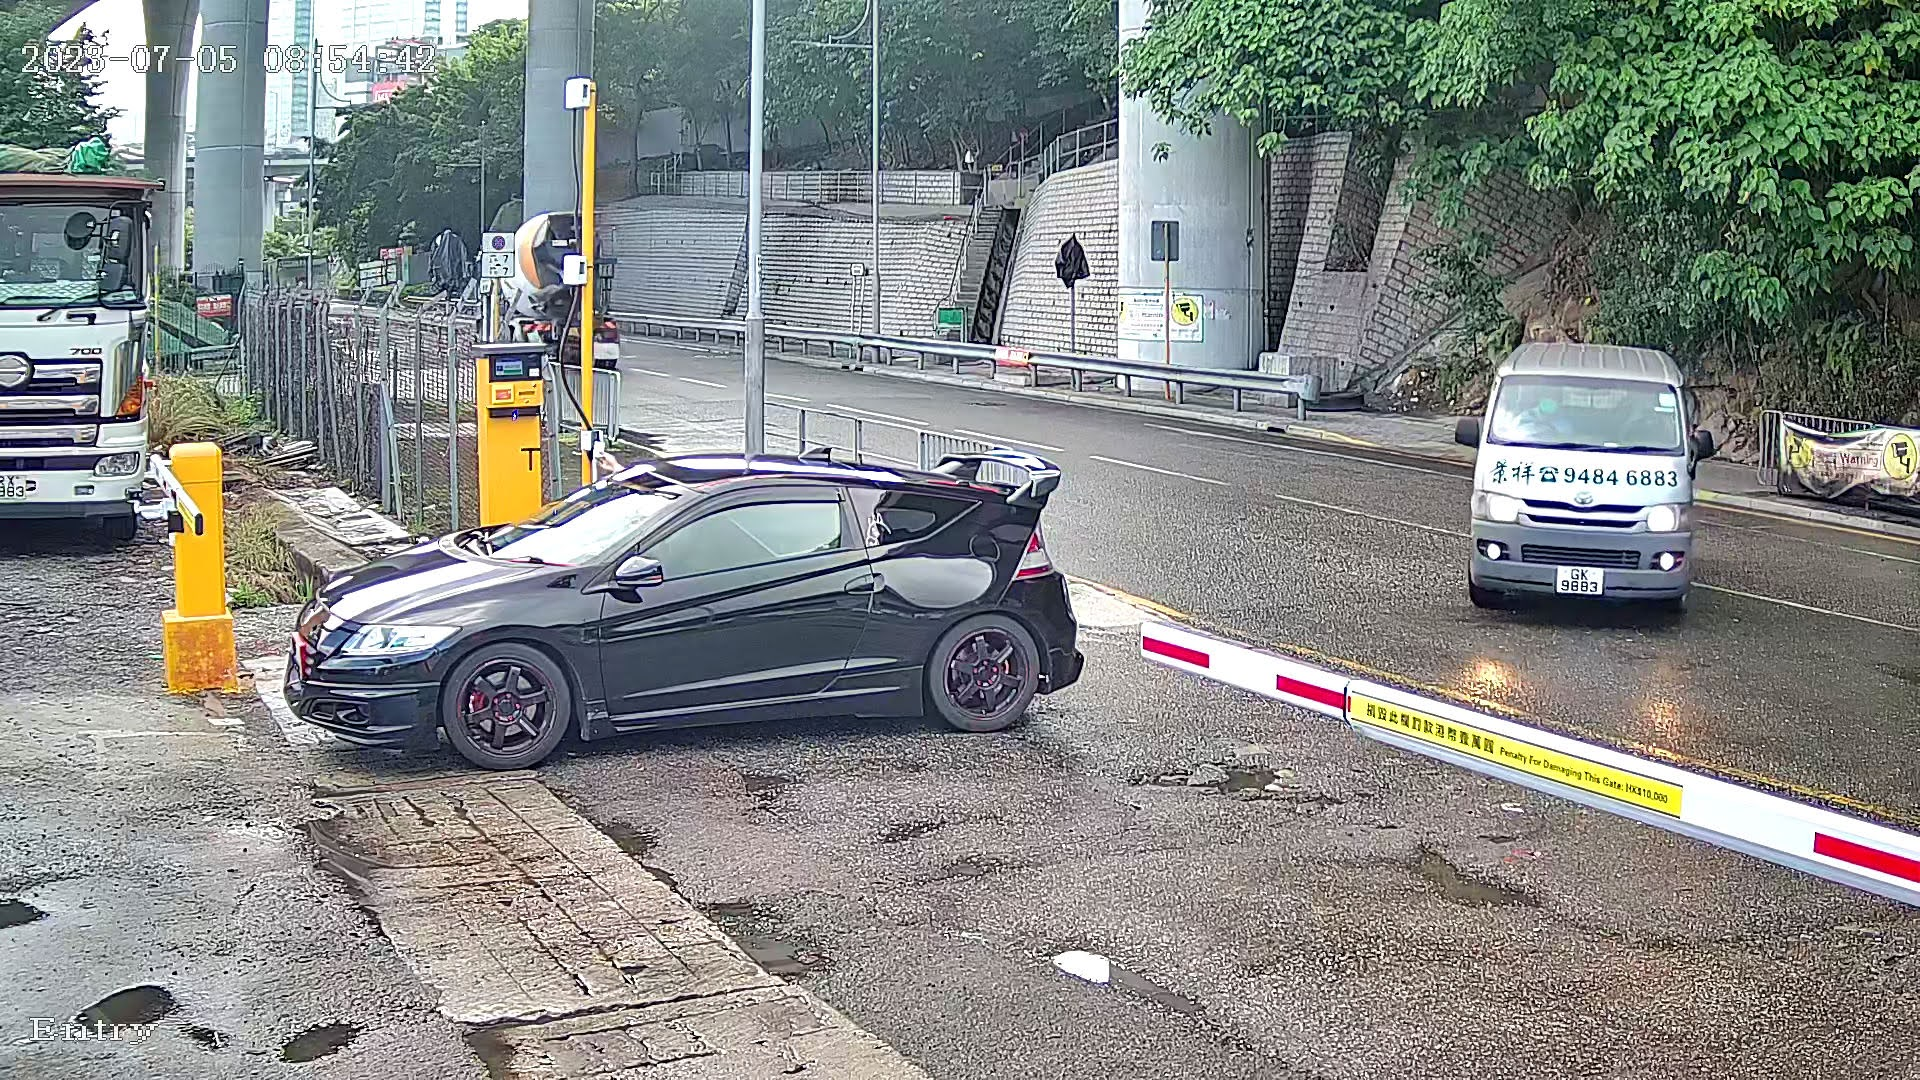privatecar: (266, 404, 1127, 783), (1431, 272, 1725, 683)
